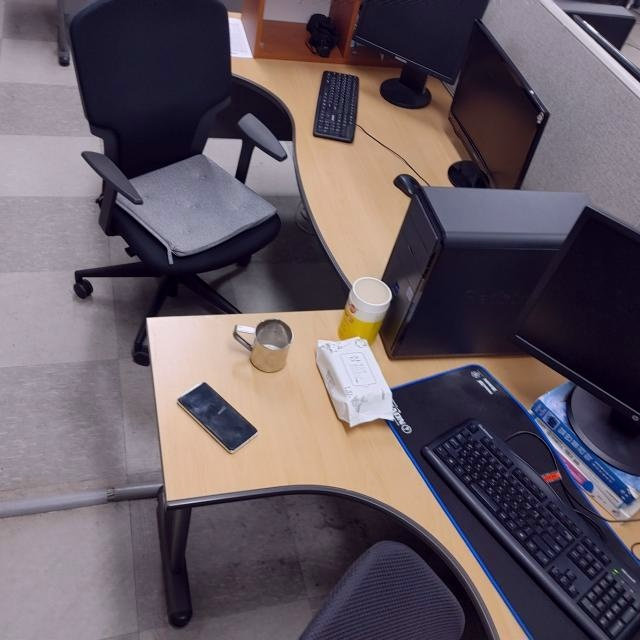cup: (231, 316, 294, 376)
phone: (176, 379, 260, 458)
